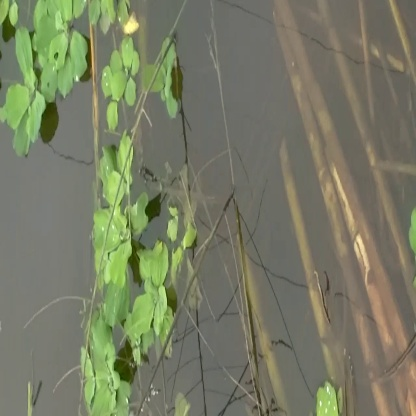leaf: (2, 86, 54, 151)
